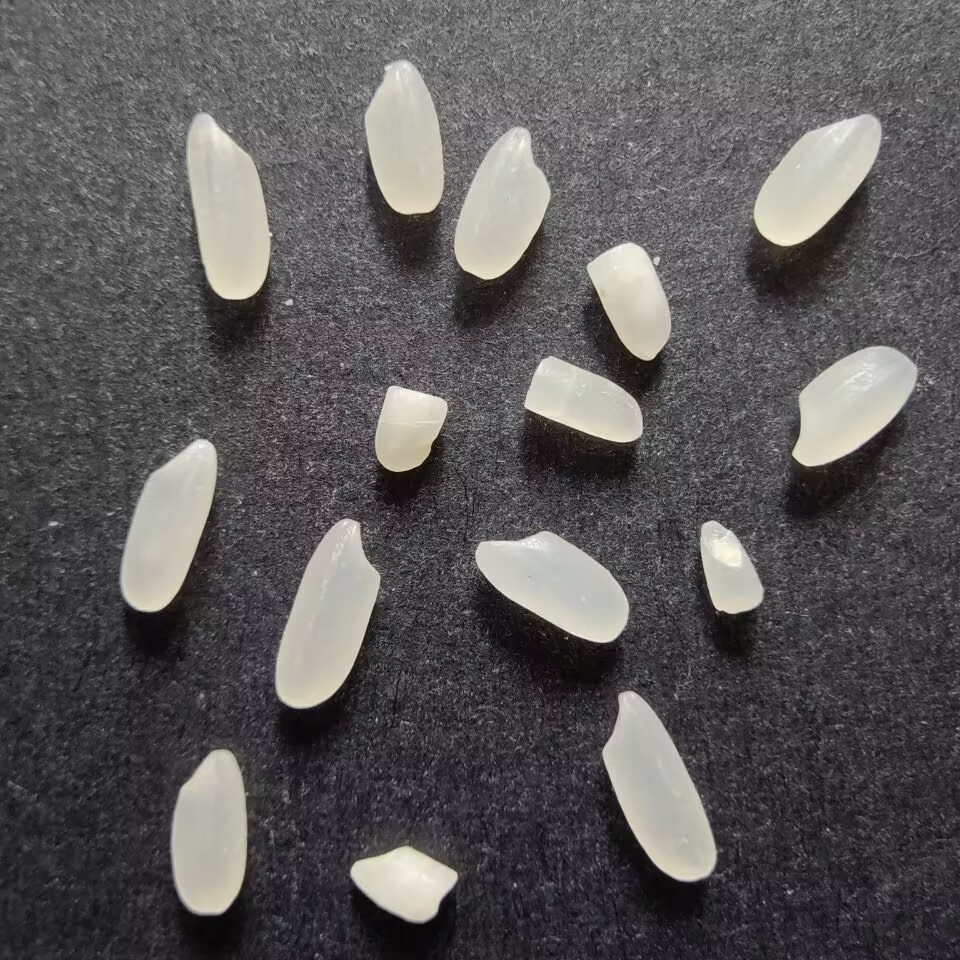broken: (521, 356, 651, 450), (583, 239, 676, 366), (347, 844, 464, 926), (689, 513, 767, 620), (373, 382, 450, 479)
rice: (599, 684, 726, 885), (267, 515, 382, 711), (465, 528, 632, 645), (116, 434, 218, 617), (748, 113, 883, 245), (184, 109, 272, 305), (449, 125, 555, 282), (787, 344, 919, 469), (166, 744, 251, 921), (362, 56, 450, 216)
